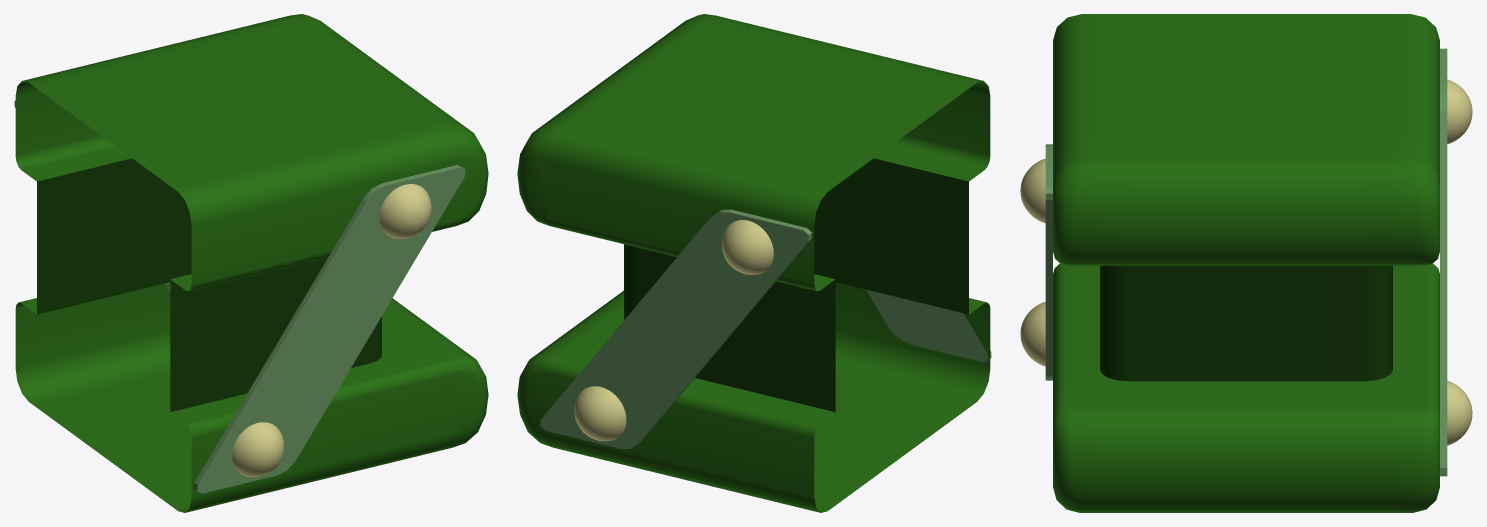
File: a1_LR_tekkotu.fbx
3 views of the same model, side by side, from view 1: azimuth 30°, elevation 25°; view 2: azimuth 150°, elevation 25°; view 3: azimuth 270°, elevation 25° (orthographic). The views are drawn at different scales.
Visible parts, largest first — view 1: LR_tekkotu; view 2: LR_tekkotu; view 3: LR_tekkotu.
Part boxes in pixels (x1,y1,x2,y2): LR_tekkotu: (14, 14, 488, 512); LR_tekkotu: (517, 14, 991, 512); LR_tekkotu: (1020, 14, 1472, 512).
Bounding box in the file's own units: 1.99 × 2 × 2.34.
